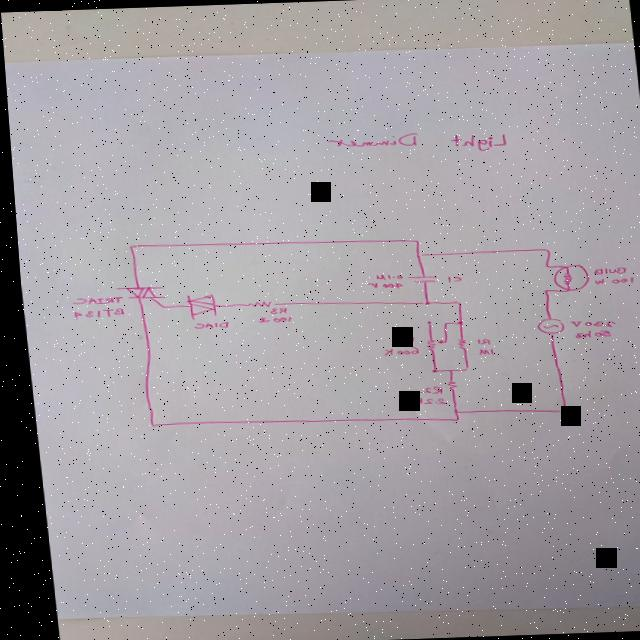capacitor: (401, 273, 433, 282)
junction: (123, 242, 135, 248), (536, 246, 547, 252), (409, 250, 419, 256), (415, 299, 426, 304), (549, 406, 559, 411), (444, 407, 452, 412), (447, 299, 457, 303), (142, 421, 150, 426), (407, 237, 416, 241), (449, 320, 458, 324), (419, 319, 426, 324), (424, 367, 432, 371), (456, 366, 464, 370), (445, 416, 453, 420), (538, 262, 546, 266), (436, 320, 444, 324), (537, 287, 544, 291), (154, 303, 161, 307), (441, 367, 447, 371)
resistor: (237, 298, 272, 308), (418, 336, 443, 349), (449, 336, 462, 348), (439, 378, 451, 391)
source: (529, 316, 561, 334)
text: (322, 128, 507, 156), (66, 306, 121, 320), (65, 294, 119, 304), (563, 318, 612, 328), (588, 274, 631, 284), (566, 328, 607, 338), (376, 344, 415, 354), (403, 394, 441, 404), (587, 264, 623, 274), (186, 319, 225, 328), (361, 280, 400, 288), (251, 314, 287, 322), (410, 384, 437, 394), (386, 333, 410, 342), (369, 272, 399, 279), (263, 305, 282, 313), (441, 273, 457, 282), (471, 346, 489, 354), (471, 336, 486, 344)
